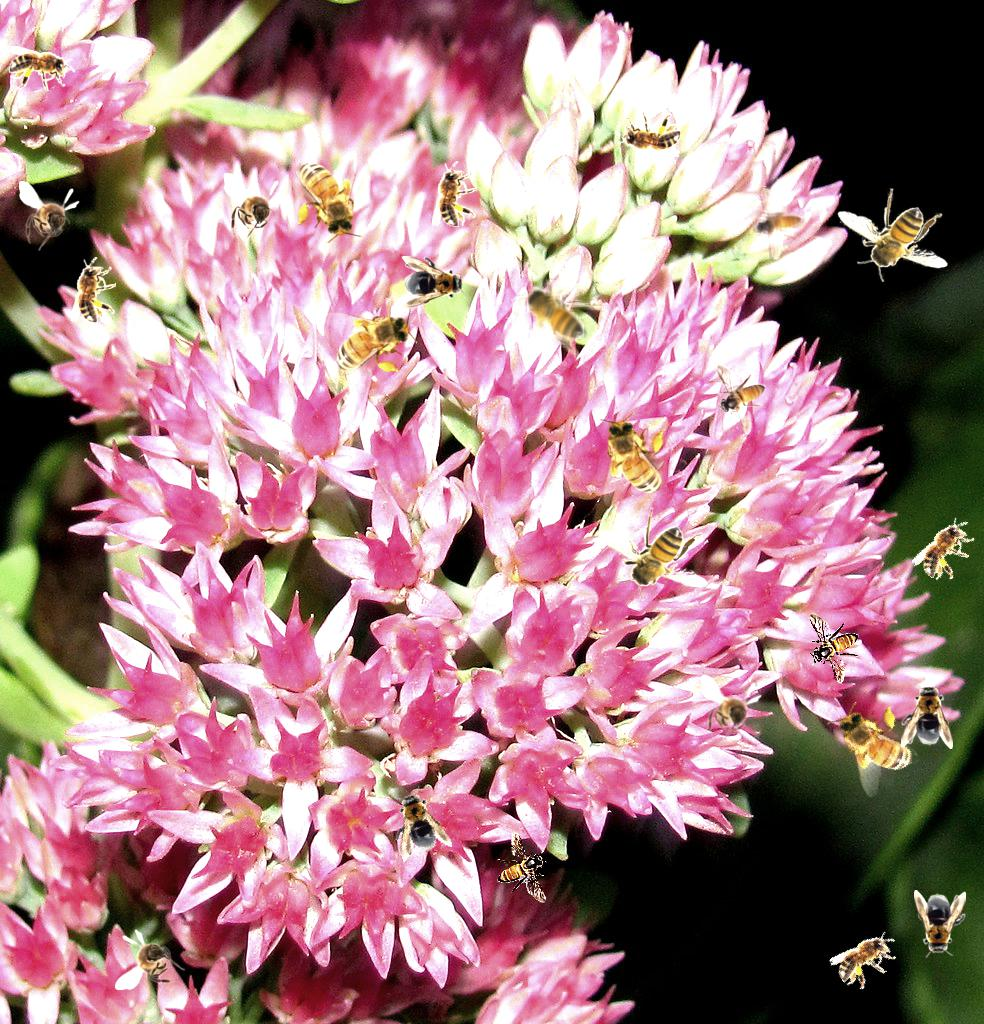Bee: (824, 687, 926, 802), (837, 188, 948, 282), (511, 254, 605, 365), (597, 507, 708, 601), (294, 150, 362, 243), (599, 413, 667, 506), (324, 308, 417, 376), (827, 920, 907, 997), (380, 782, 454, 864), (910, 508, 984, 589), (744, 185, 810, 266), (115, 929, 185, 990), (701, 675, 762, 745), (224, 173, 285, 243), (19, 181, 80, 251), (497, 832, 547, 903), (809, 613, 859, 684), (716, 364, 766, 435), (400, 256, 468, 308), (914, 890, 966, 958), (901, 681, 953, 749), (71, 257, 116, 323), (615, 112, 681, 157), (432, 161, 477, 227), (9, 46, 75, 91)
